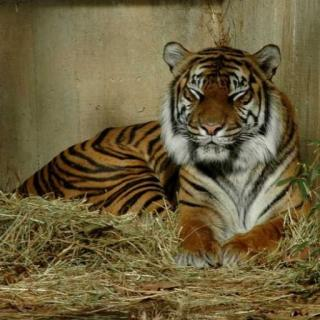Tiger: (2, 30, 320, 273)
